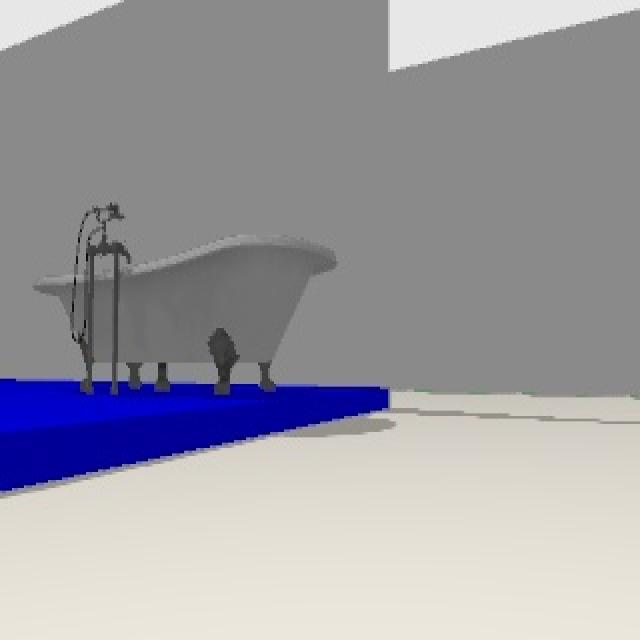bathtub: (35, 190, 340, 393)
